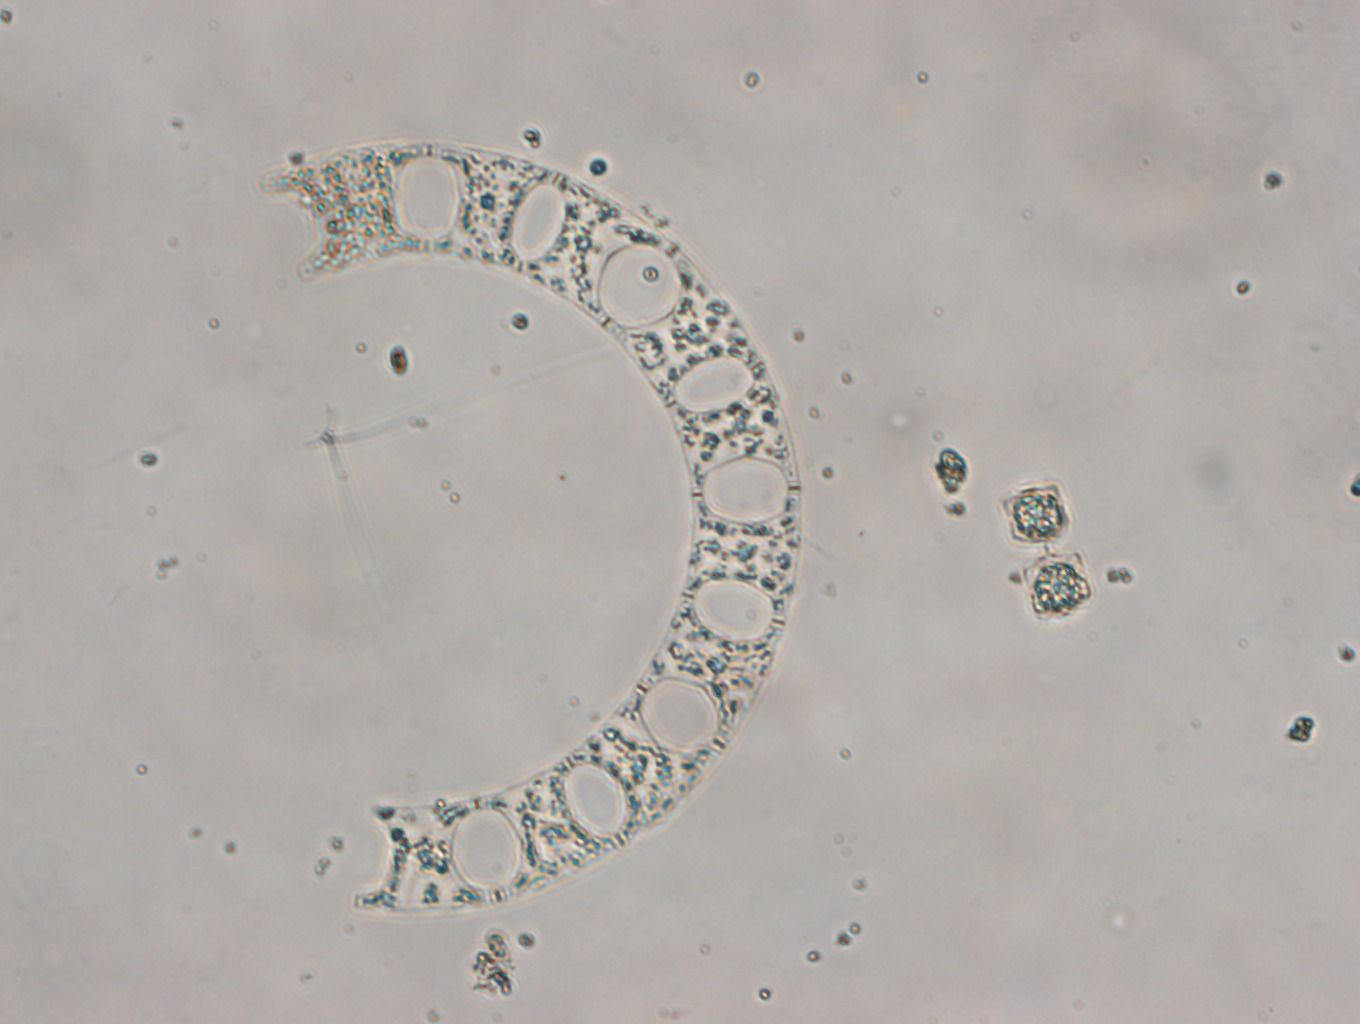detonula pumila: (998, 478, 1094, 623)
eucampia: (259, 139, 803, 914)
